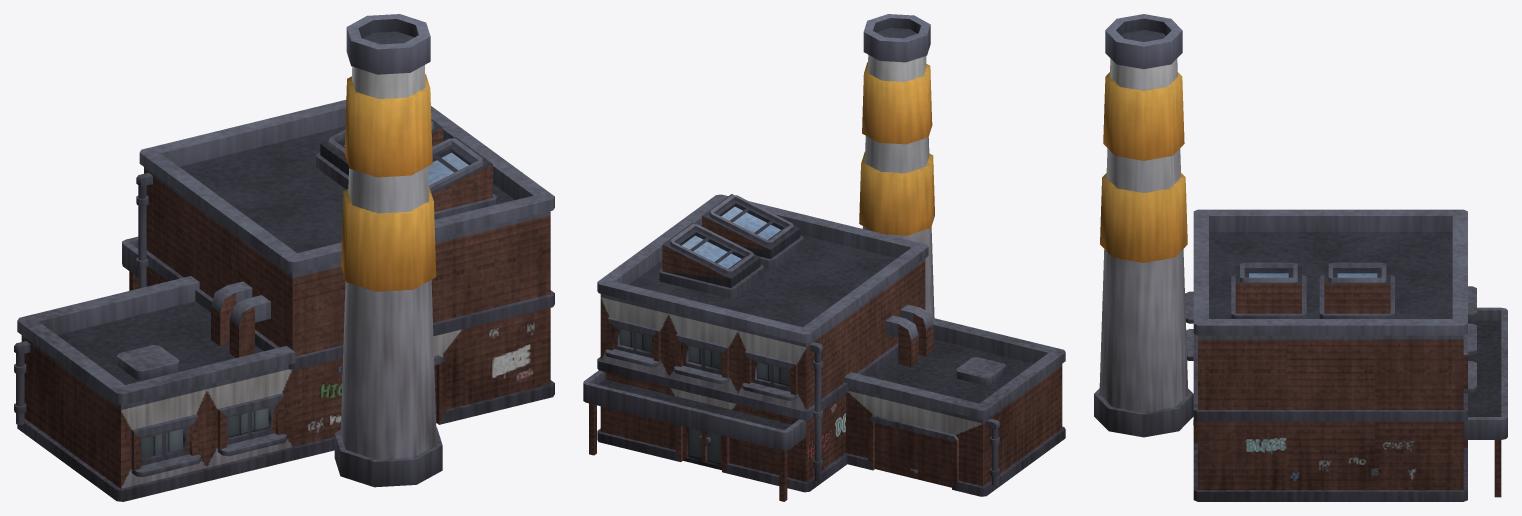
The model's file is building-l-brown-scuffed.glb.
3 views of the same model, side by side, from view 1: azimuth 30°, elevation 25°; view 2: azimuth 150°, elevation 25°; view 3: azimuth 270°, elevation 25° (orthographic). The views are drawn at different scales.
Visible parts, largest first — view 1: building-l; view 2: building-l; view 3: building-l.
Part boxes in pixels (<box>): building-l: <box>14,14,554,501</box>; building-l: <box>583,14,1065,501</box>; building-l: <box>1094,14,1507,501</box>.
Bounding box in the file's own units: 2.08 × 1.92 × 1.87.
Materials: 1 (1 with a texture image).
